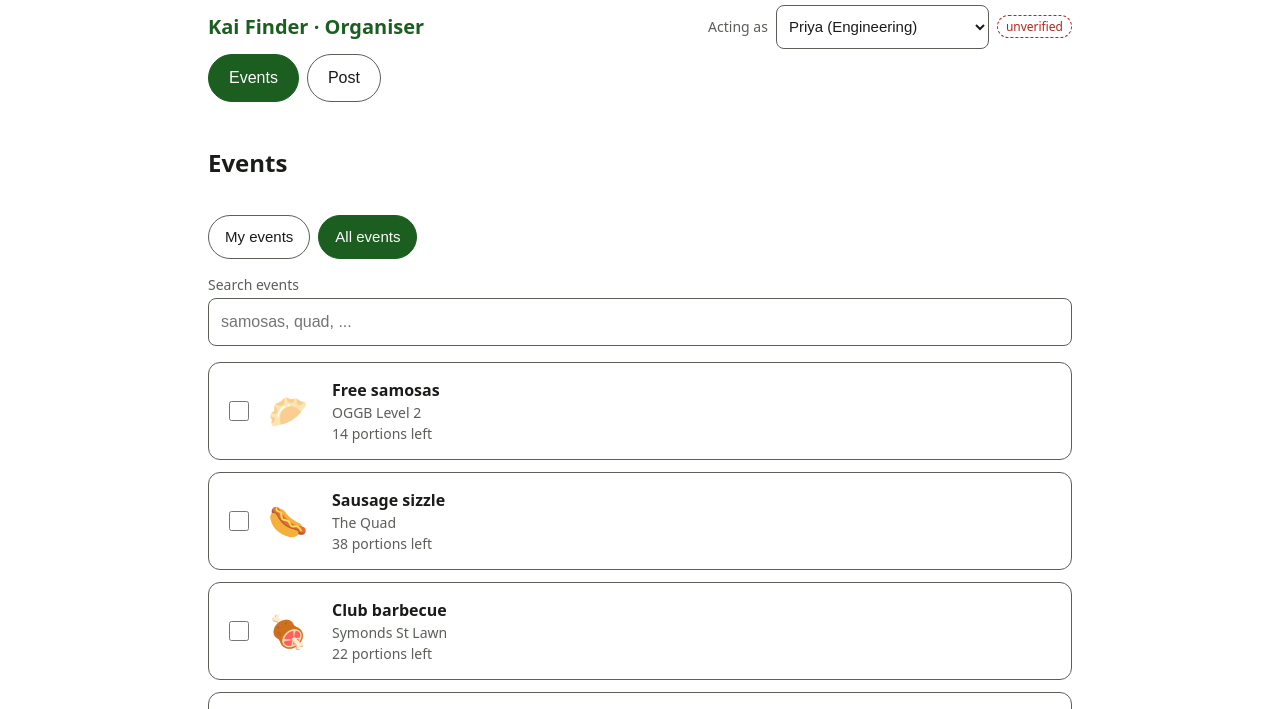
Test: who posted it › attributes the event to the acting organiser
Click the button "Post" at (344, 78), box [307, 54, 381, 102]
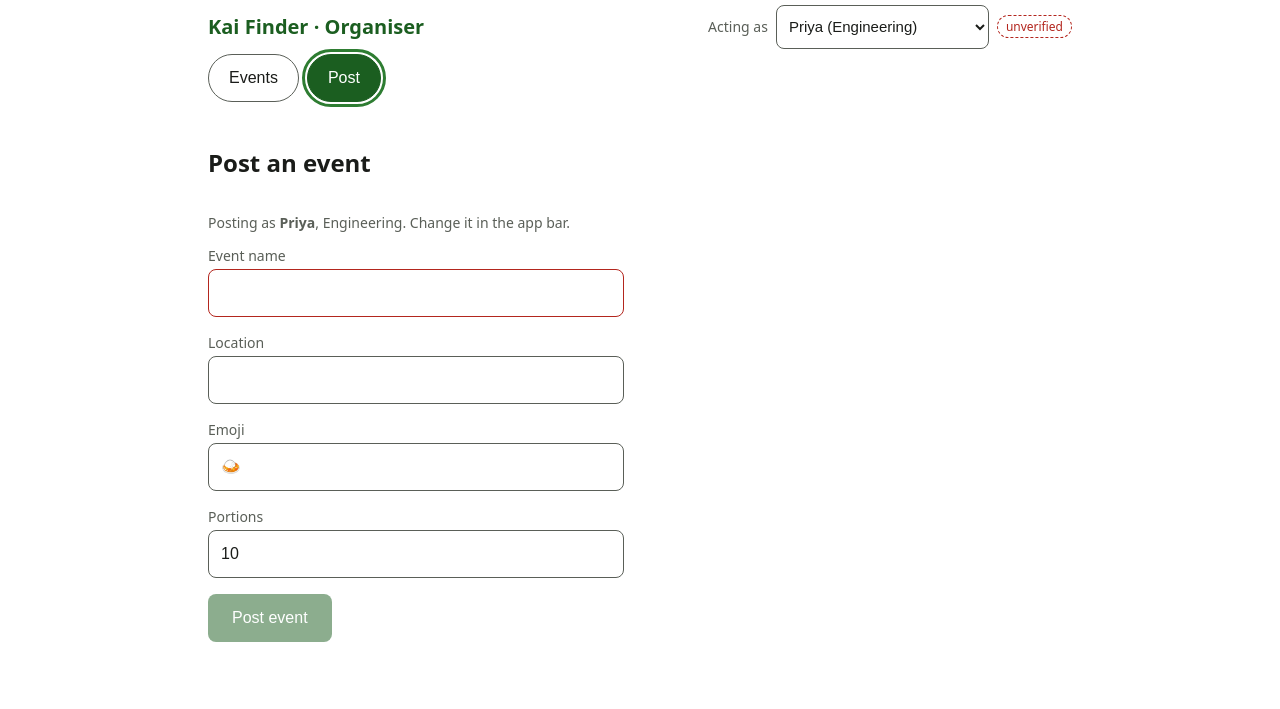
Select "Mei (Science)" in the dropdown labelled "Acting as" at (882, 27), box [776, 5, 989, 49]
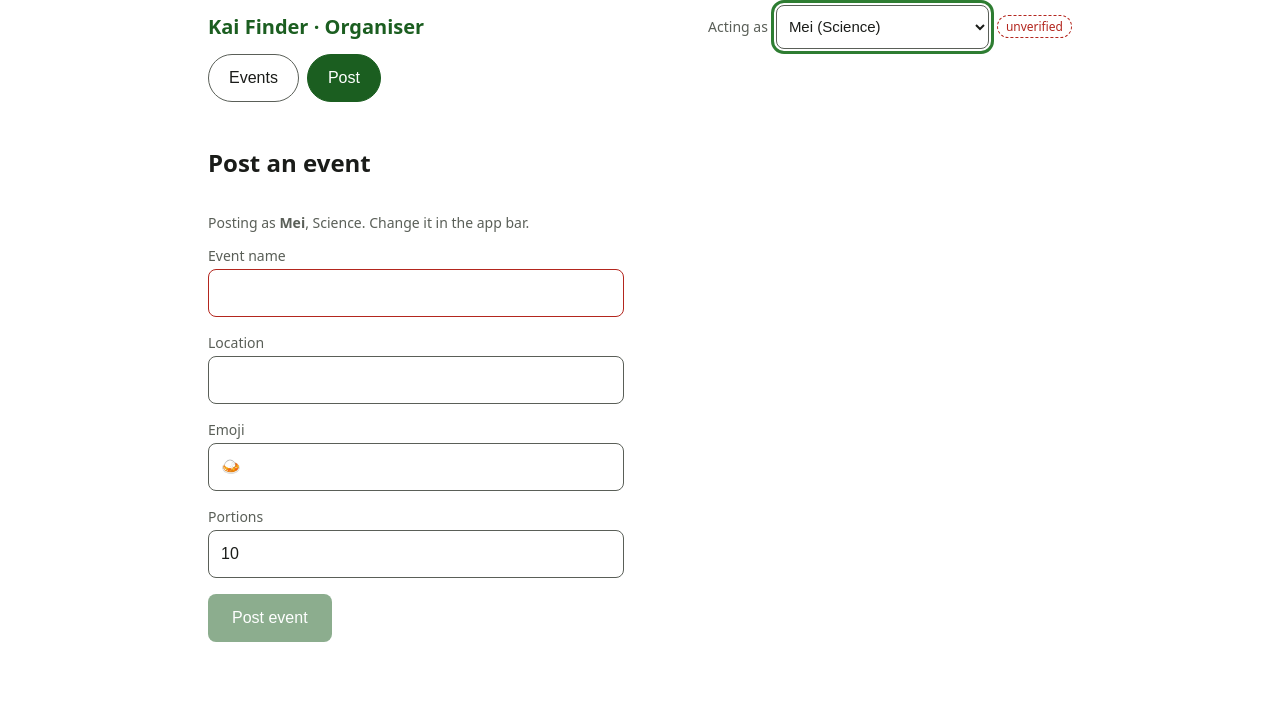
Type "Business mixer leftovers" into the field labelled "Event name" at (416, 293), box [208, 269, 624, 317]
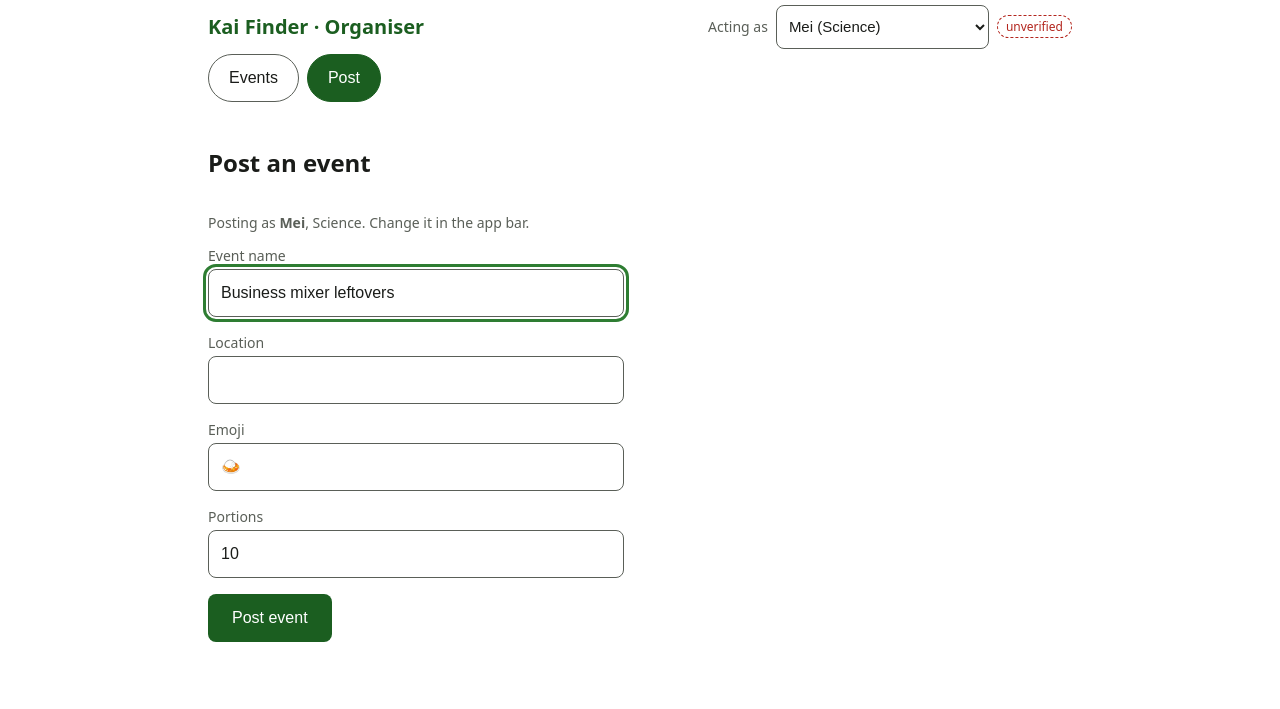
Click the button "Post event" at (270, 618), box [208, 594, 332, 642]
(page scrolled)
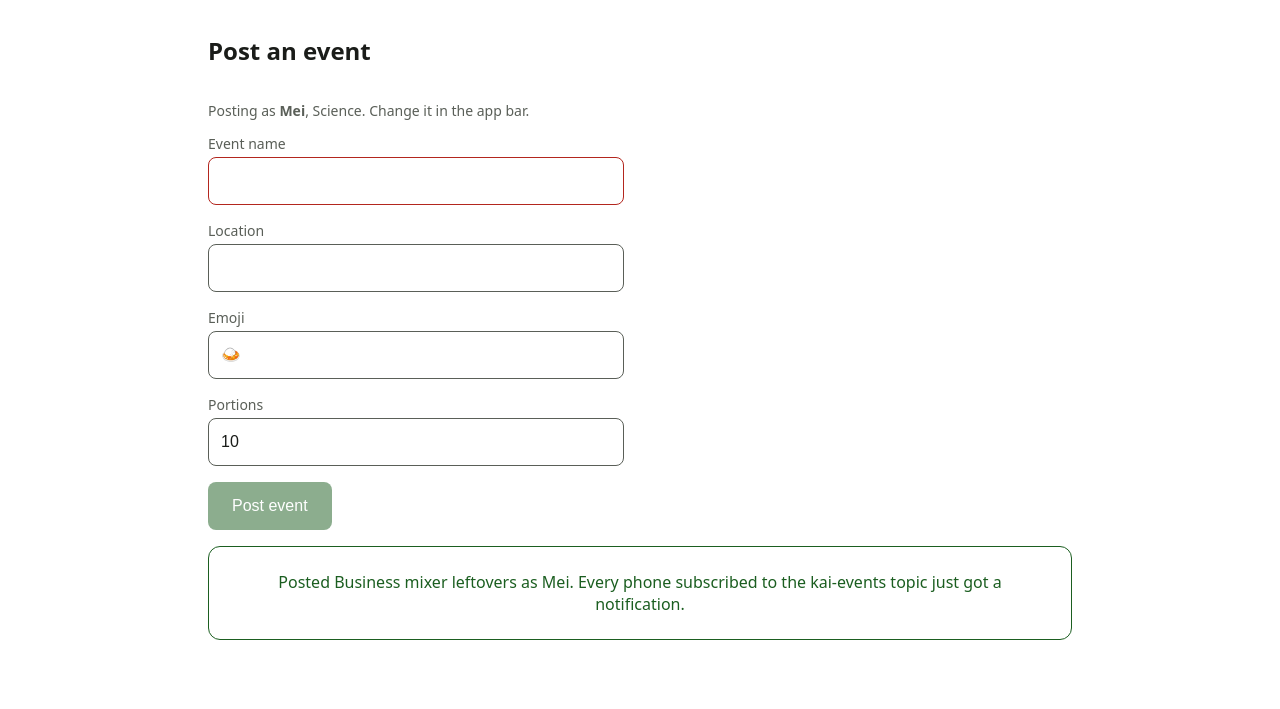
Result: the message is shown at [208, 546, 1072, 640]
